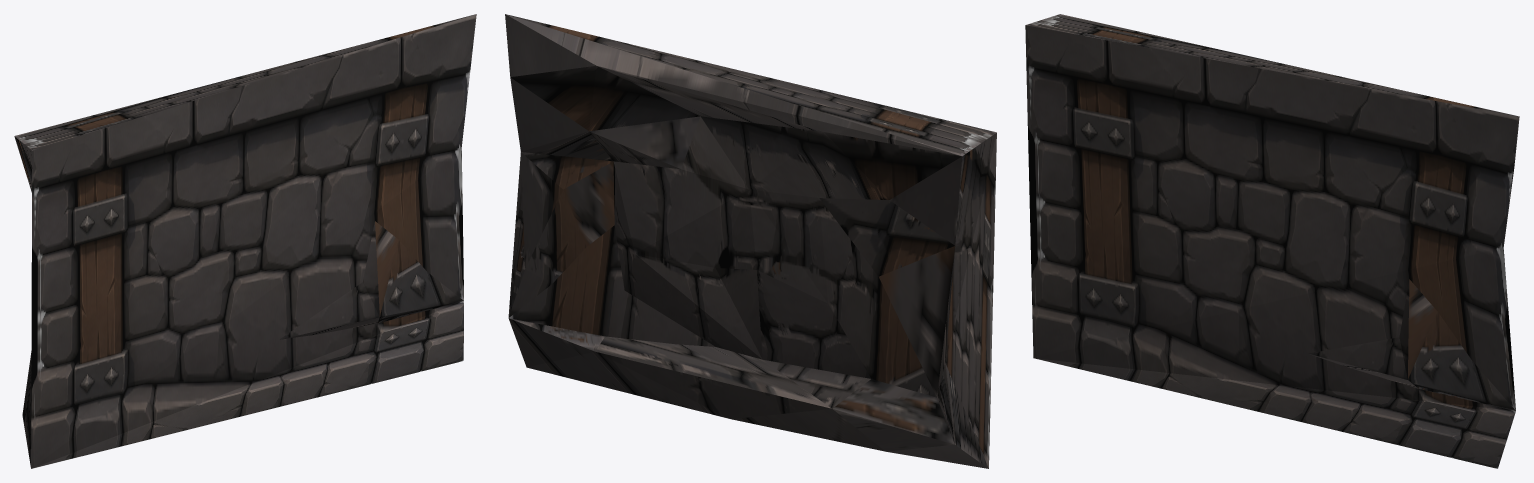
Rendered from SM_Dungeon_Wall_A_LOD3.fbx.
3 renders of one model, left to right at view 1: azimuth 30°, elevation 25°; view 2: azimuth 150°, elevation 25°; view 3: azimuth 330°, elevation 25°, orthographic. The views are drawn at different scales.
Visible parts, largest first — view 1: SM_Dungeon_Wall_A_LOD3; view 2: SM_Dungeon_Wall_A_LOD3; view 3: SM_Dungeon_Wall_A_LOD3.
Boxes of the visible parts, box(x1,y1,x2,y2) form: SM_Dungeon_Wall_A_LOD3: box(14, 14, 476, 468); SM_Dungeon_Wall_A_LOD3: box(505, 14, 996, 468); SM_Dungeon_Wall_A_LOD3: box(1025, 14, 1519, 468).
Size of the model in its own units: 4.04 by 2.86 by 0.3916.
